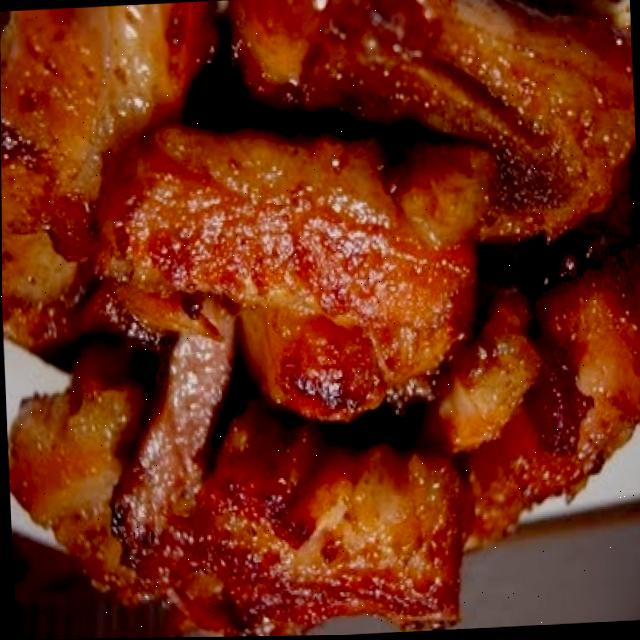猪肉菜式: (10, 12, 636, 629)
